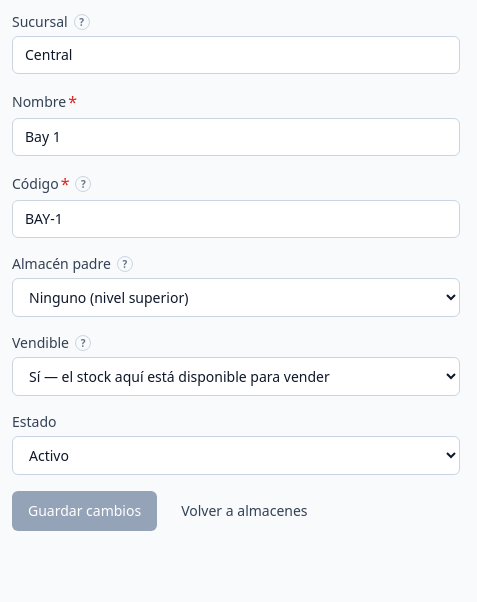
LocationForm › edit: warehouse is read-only and PATCH sends only changed fields
The image size is (477, 602).
Expected: the button "Guardar cambios" is disabled, [12,491,157,531]
Select "No — no vendible" in the dropdown labelled "Vendible" at {"x": 236, "y": 376}, box [12,357,460,396]
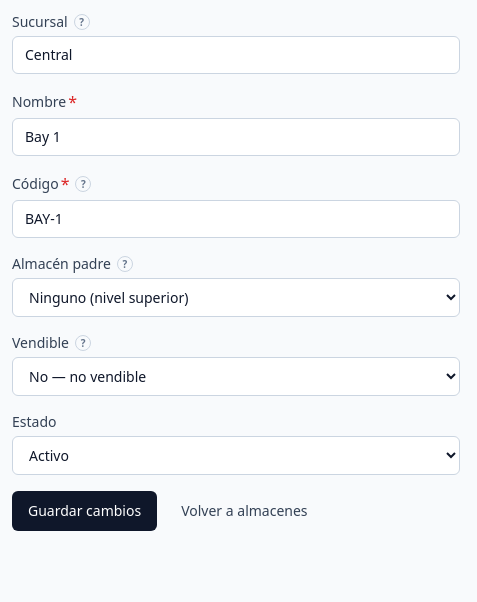
Expected: the button "Guardar cambios" is enabled
Click the button "Guardar cambios".
click(85, 511)  # box [12,491,157,531]
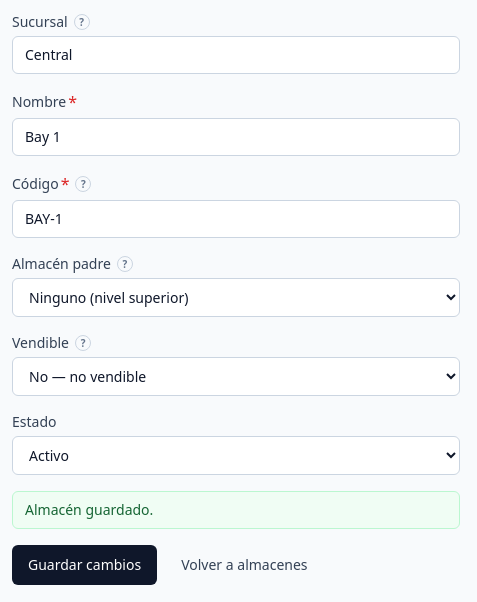
Expected: the text "Almacén guardado." is shown, [25,500,153,519]
